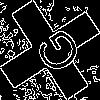G: (25, 25, 85, 83)
